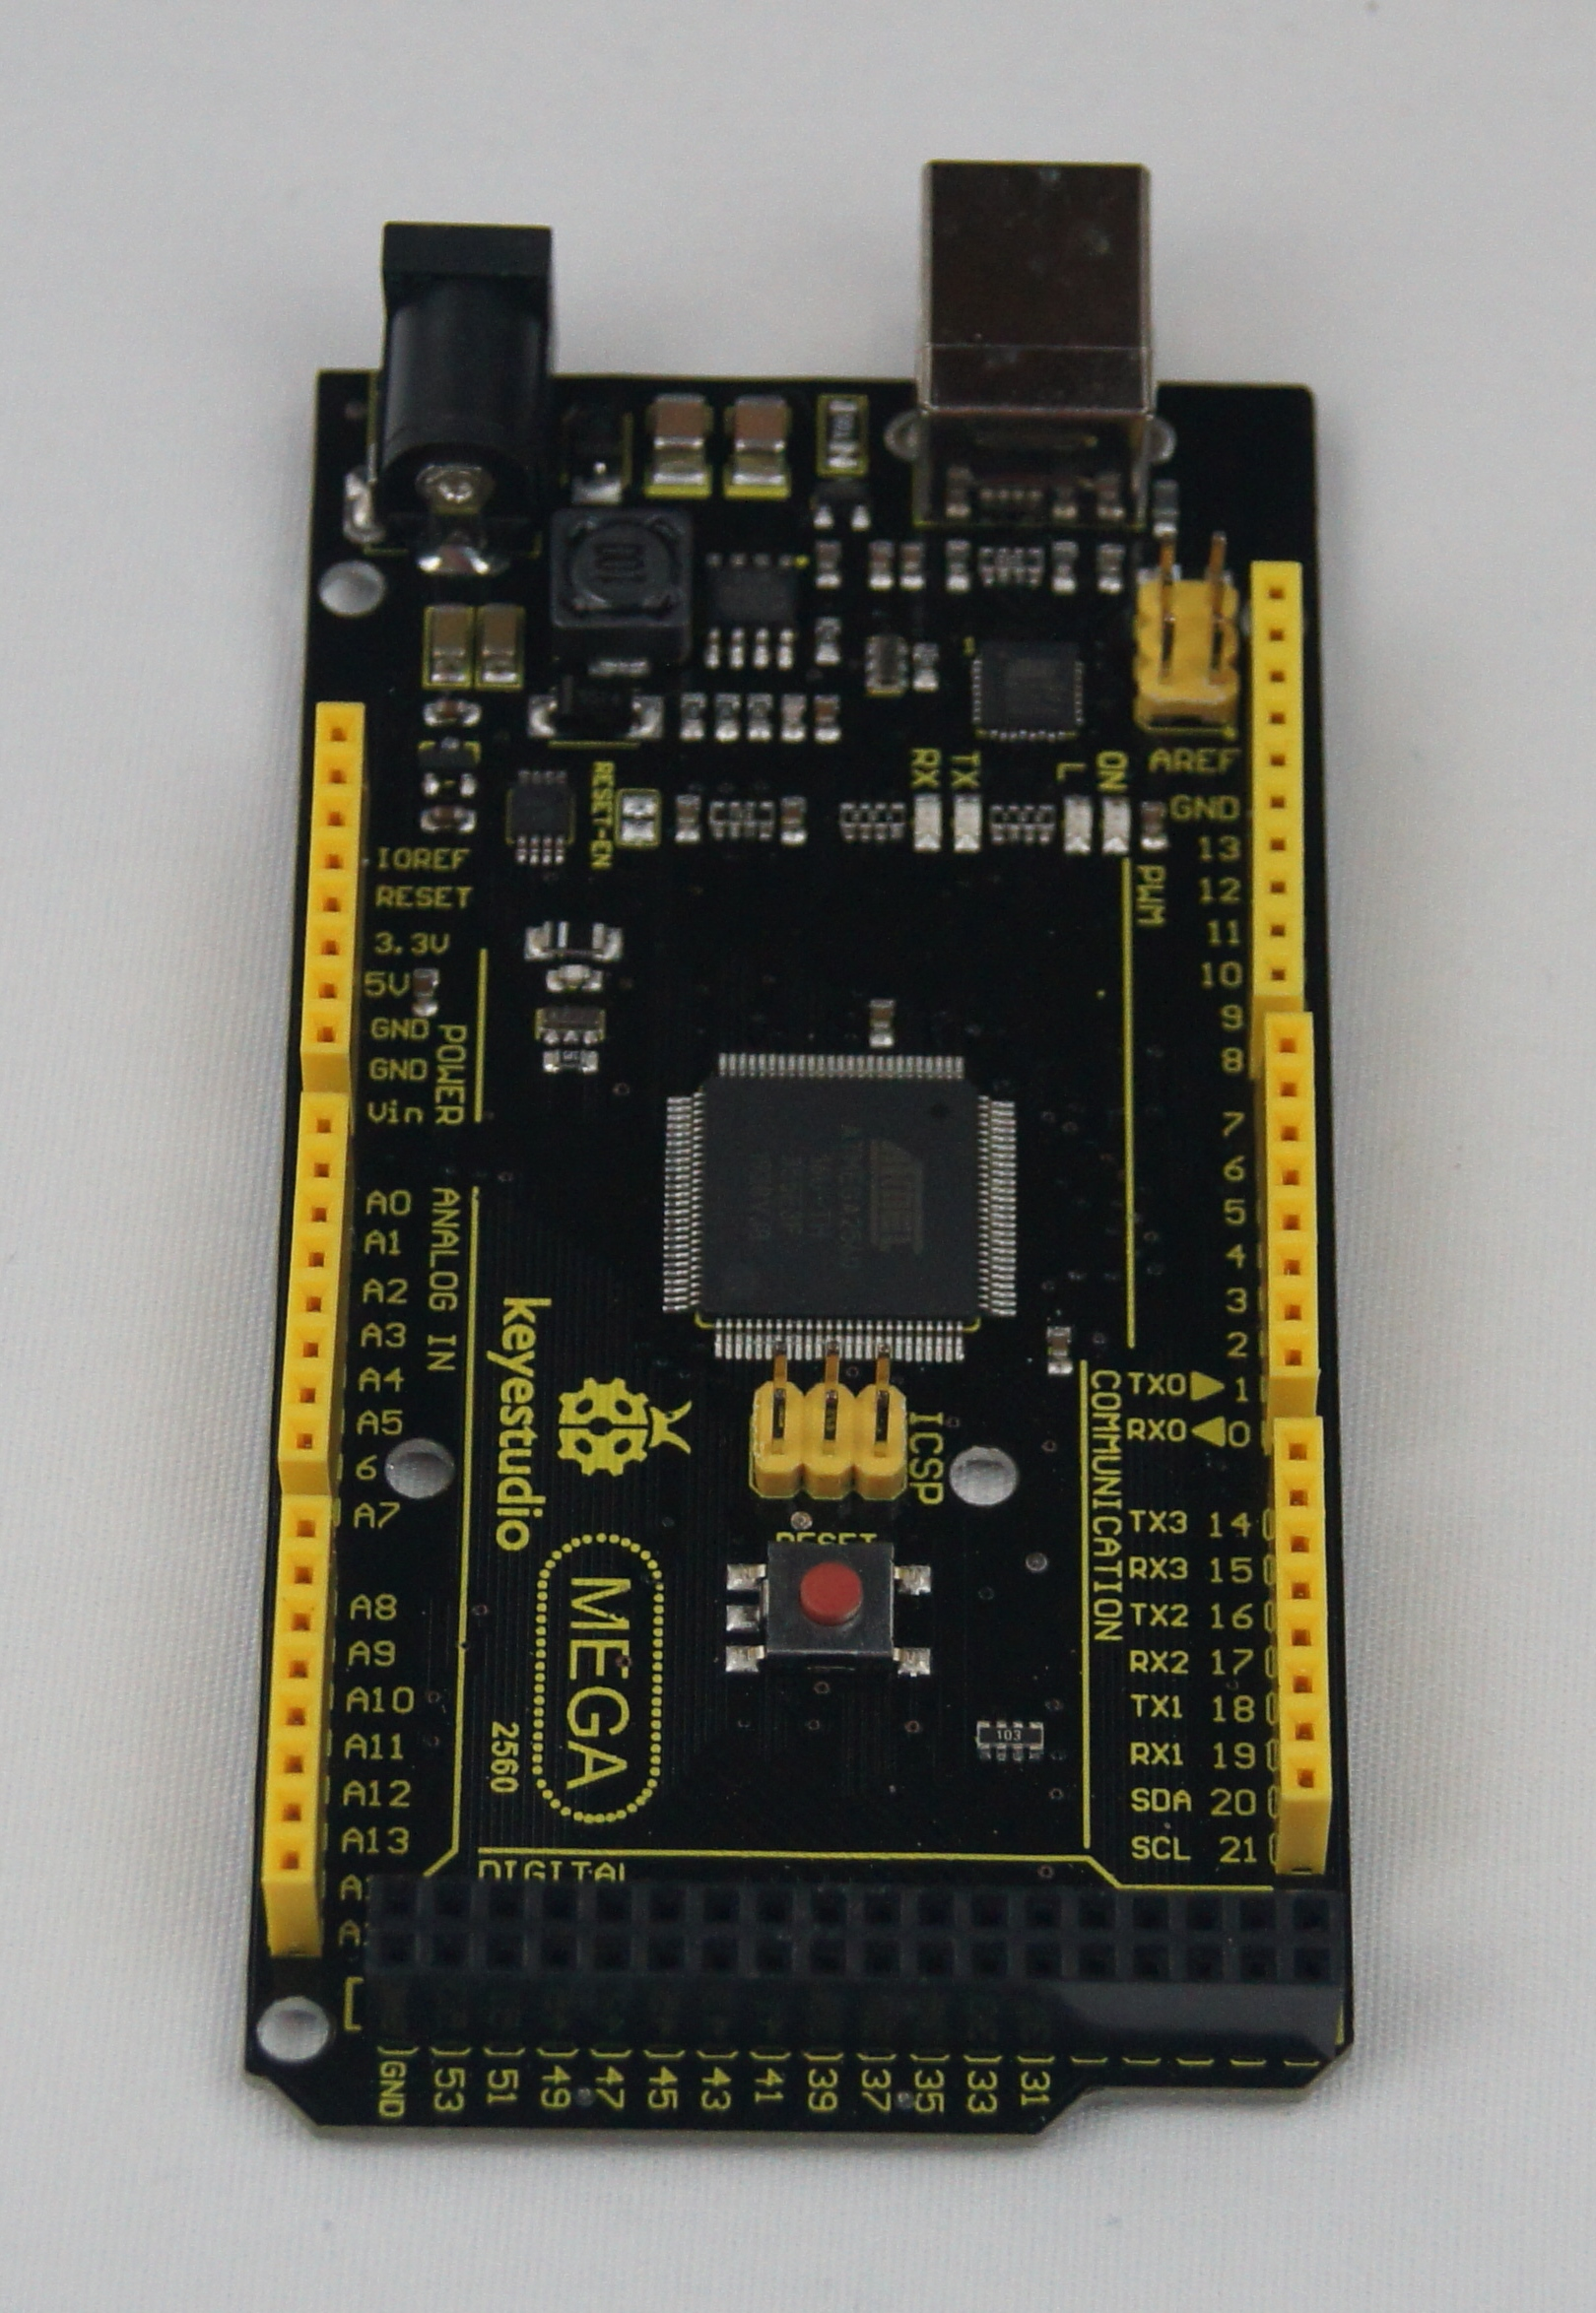connector: (362, 1860, 1338, 2032), (376, 207, 561, 555), (1236, 547, 1308, 1004), (269, 1084, 352, 1468), (1267, 1408, 1345, 1816), (744, 1336, 914, 1510), (1257, 1004, 1325, 1390), (267, 1496, 330, 1889), (301, 696, 366, 1069), (1137, 534, 1239, 731)
